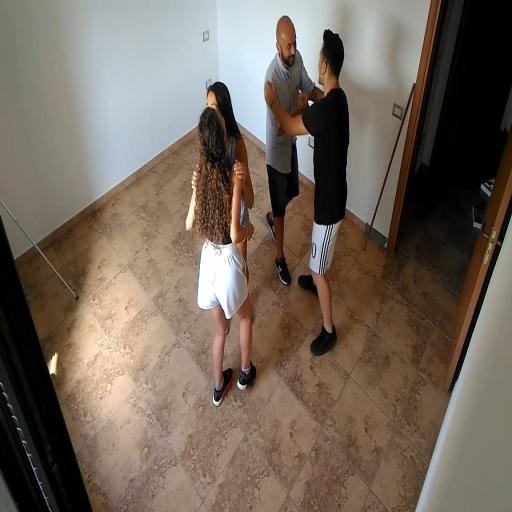nao-violencia: (255, 13, 358, 363), (175, 70, 264, 416)
